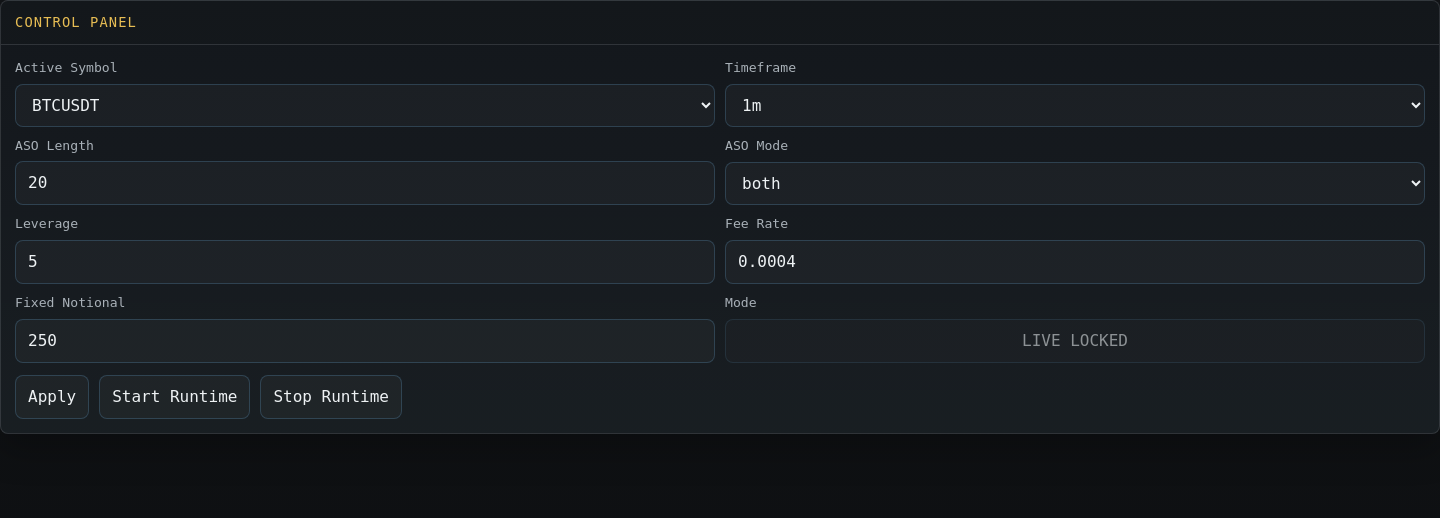
Test: release-gate operator UI › surfaces a typed settings rebuild failure without applying stale local state
The image size is (1440, 518).
Select "5m" in the dropdown named "Timeframe" at (1075, 105), box [725,84,1425,127]
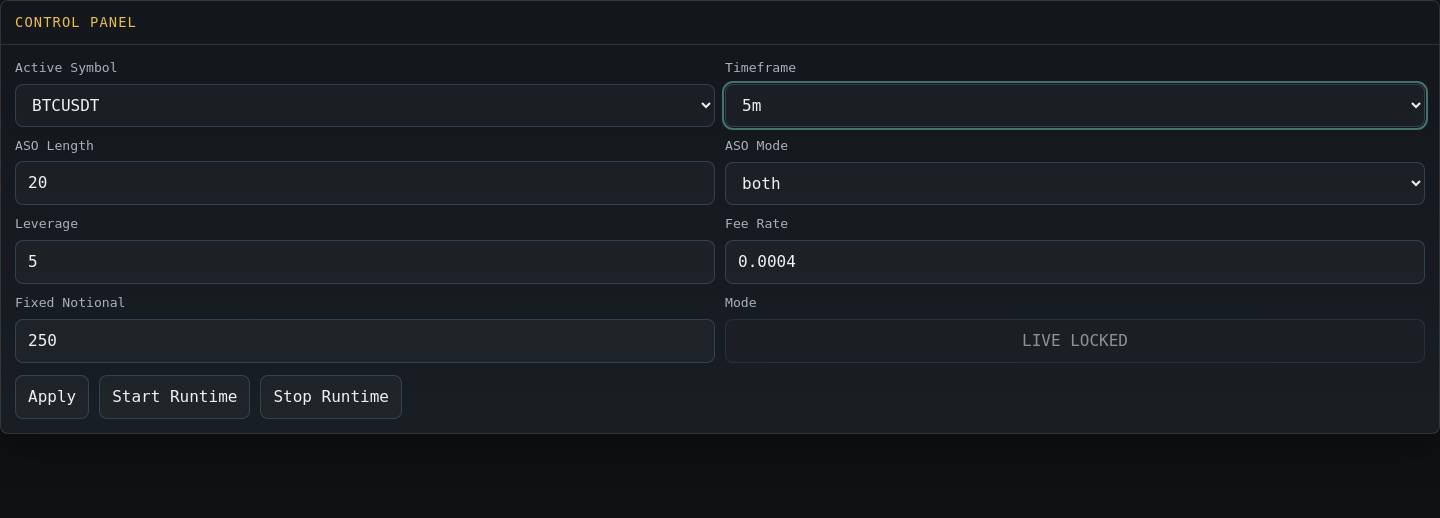
Click the button "Apply" at (52, 397), box [15,375,89,419]
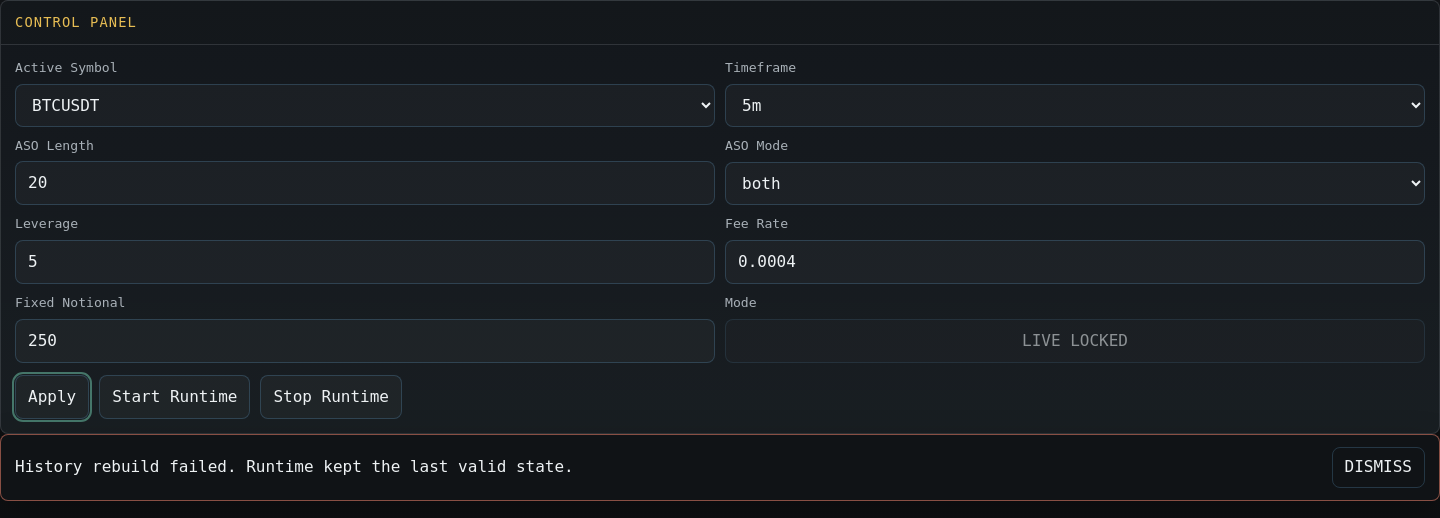
Expected: the text "History rebuild failed. Runtime kept the last valid state." is shown, [15,457,574,476]
